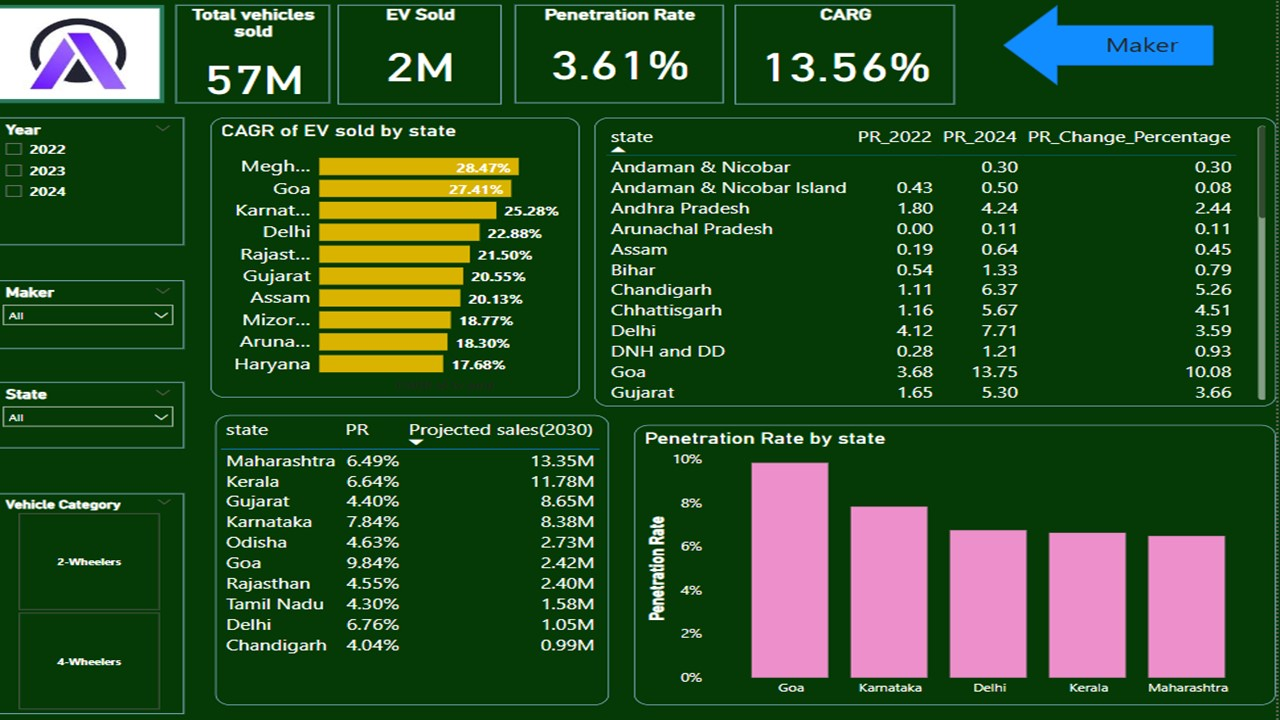

The page's visual inventory and layout, read from the dashboard file:
{"tool":"powerbi","page":{"name":"State","canvas":[1300,1000],"ordinal":1},"visuals":[{"type":"slicer","fields":{"Values":["dim_date.fiscal_year"]},"box":[0,167.5,194.3,174.2],"z":0},{"type":"slicer","fields":{"Values":["electric_vehicle_sales_by_maker.vehicle_category"]},"box":[0,681.7,194.3,301.5],"z":1000},{"type":"slicer","fields":{"Values":["electric_vehicle_sales_by_state.state"]},"box":[0,529.3,194.3,90.5],"z":2000},{"type":"slicer","fields":{"Values":["electric_vehicle_sales_by_maker.maker"]},"box":[0,390.3,194.3,93.8],"z":3000},{"type":"image","box":[0,13.4,174.2,134],"z":4000},{"type":"shape","box":[1023.5,13.4,212.7,110.6],"z":5000},{"type":"cardVisual","title":"Penetration Rate","fields":{"Data":["electric_vehicle_sales_by_state.Penetration Rate"]},"box":[529.3,13.4,211.1,134],"z":6000},{"type":"cardVisual","title":"CARG","fields":{"Data":["electric_vehicle_sales_by_state.CAGR_total_vehicles_sold"]},"box":[752.1,13.4,222.8,135.7],"z":7000},{"type":"cardVisual","title":"EV Sold","fields":{"Data":["Sum(electric_vehicle_sales_by_state.electric_vehicles_sold)"]},"box":[350.1,13.4,165.8,135.7],"z":8000},{"type":"cardVisual","title":"Total vehicles sold","fields":{"Data":["Sum(electric_vehicle_sales_by_state.total_vehicles_sold)"]},"box":[185.9,13.4,155.8,134],"z":9000},{"type":"clusteredBarChart","title":"CAGR of EV sold by state","fields":{"Category":["electric_vehicle_sales_by_state.state"],"Y":["electric_vehicle_sales_by_state.CAGR_total_vehicles_sold"]},"box":[221.1,167.5,373.5,383.6],"z":10000},{"type":"clusteredColumnChart","fields":{"Y":["electric_vehicle_sales_by_state.Penetration Rate"],"Category":["electric_vehicle_sales_by_state.state"]},"box":[649.9,587.9,649.9,383.6],"z":11000},{"type":"tableEx","fields":{"Values":["electric_vehicle_sales_by_state.state","electric_vehicle_sales_by_state.Penetration Rate","electric_vehicle_sales_by_state.PProjected_EV_Sales_2030"]},"box":[226.1,574.5,398.7,397],"z":12000},{"type":"tableEx","fields":{"Values":["electric_vehicle_sales_by_state.state","electric_vehicle_sales_by_state.PR_2022","electric_vehicle_sales_by_state.PR_2024","electric_vehicle_sales_by_state.PR_Change_Percentage"]},"box":[609.7,167.5,690.1,395.3],"z":13000},{"type":"textbox","box":[1092.1,43.6,144.1,51],"z":14000}]}

Visuals, with their boxes on the page's 1300x1000 design canvas (x1, y1, x2, y2). These are canvas units, not pixel positions in the 1280x720 screenshot, which may show the page scaled, cropped or inside an application window:
slicer - dim_date.fiscal_year: bbox=[0, 168, 194, 342]
slicer - electric_vehicle_sales_by_maker.vehicle_category: bbox=[0, 682, 194, 983]
slicer - electric_vehicle_sales_by_state.state: bbox=[0, 529, 194, 620]
slicer - electric_vehicle_sales_by_maker.maker: bbox=[0, 390, 194, 484]
image: bbox=[0, 13, 174, 147]
shape: bbox=[1024, 13, 1236, 124]
"Penetration Rate" cardVisual: bbox=[529, 13, 740, 147]
"CARG" cardVisual: bbox=[752, 13, 975, 149]
"EV Sold" cardVisual: bbox=[350, 13, 516, 149]
"Total vehicles sold" cardVisual: bbox=[186, 13, 342, 147]
"CAGR of EV sold by state" clusteredBarChart: bbox=[221, 168, 595, 551]
clusteredColumnChart - electric_vehicle_sales_by_state.Penetration Rate x electric_vehicle_sales_by_state.state: bbox=[650, 588, 1300, 972]
tableEx - electric_vehicle_sales_by_state.state x electric_vehicle_sales_by_state.Penetration Rate: bbox=[226, 574, 625, 972]
tableEx - electric_vehicle_sales_by_state.state x electric_vehicle_sales_by_state.PR_2022: bbox=[610, 168, 1300, 563]
textbox: bbox=[1092, 44, 1236, 95]
